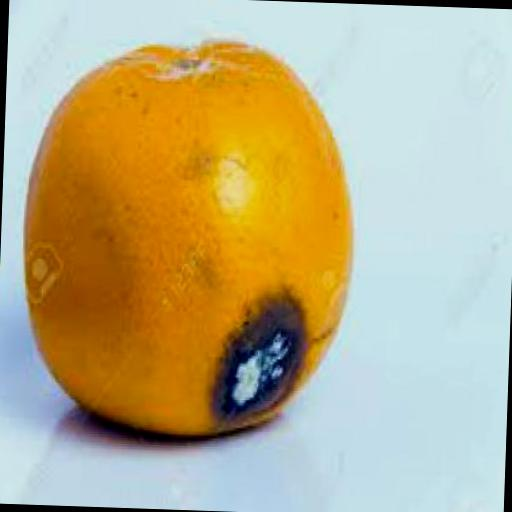biodegradable: (14, 32, 356, 442)
